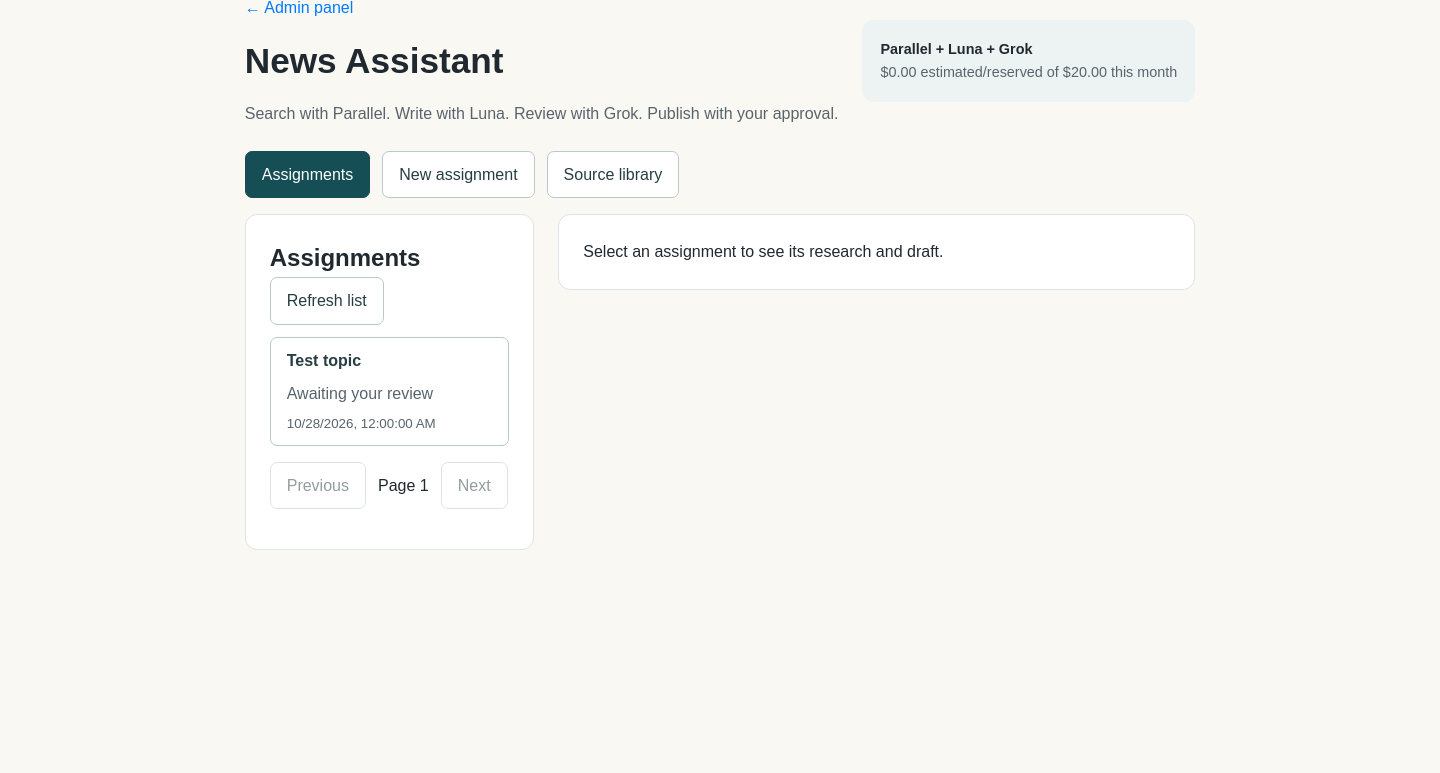
it: publishing stays disabled until an approval note and explicit checkbox are supplied
Click the button "Test topic Awaiting your review 10/28/2026, 12:00:00 AM": {"x": 389, "y": 391} [270,337,509,446]
(page scrolled)
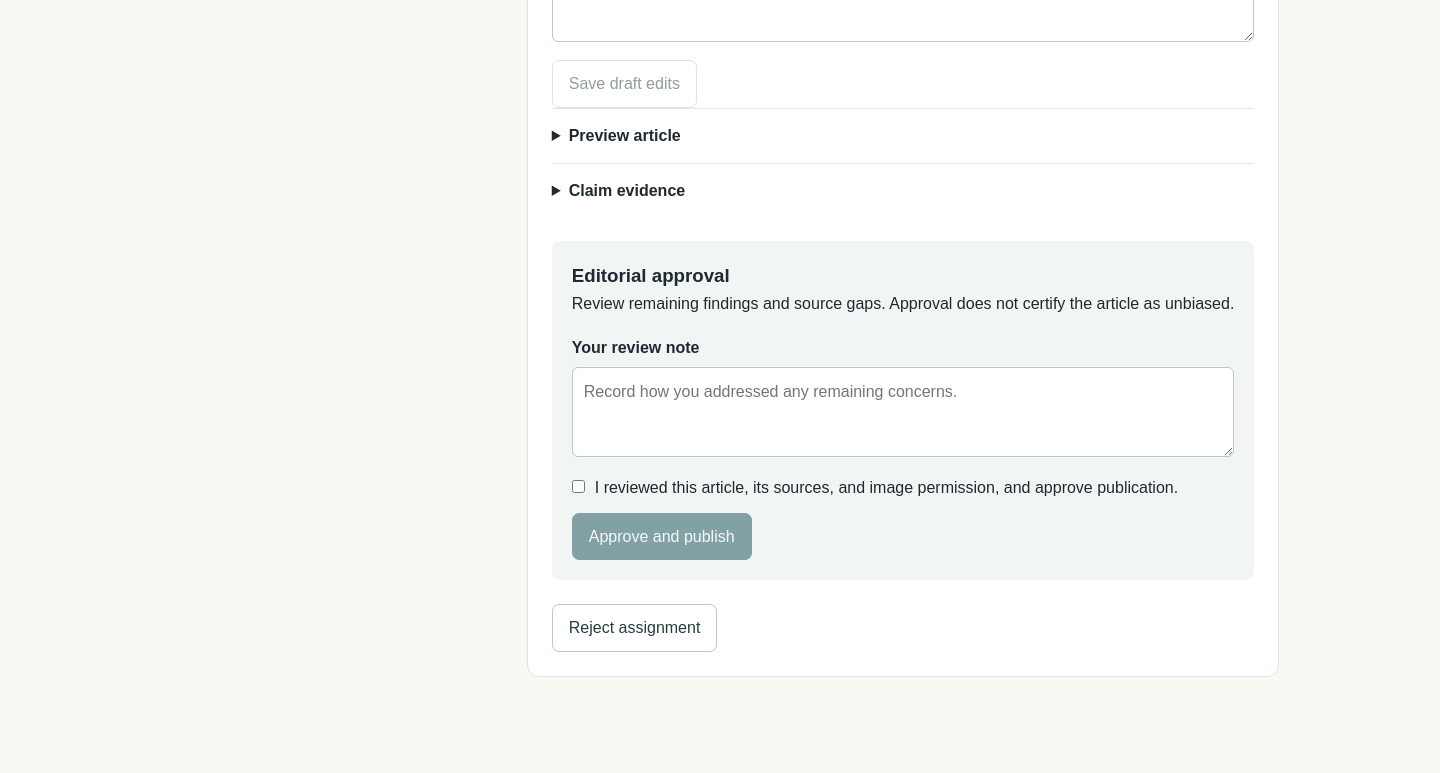
expect the button "Approve and publish" is disabled: met, box [572,513,752,560]
In the text box labelled "Your review note": {"x": 903, "y": 412} [572,367,1234,457], type "Checked the sources and image permission."
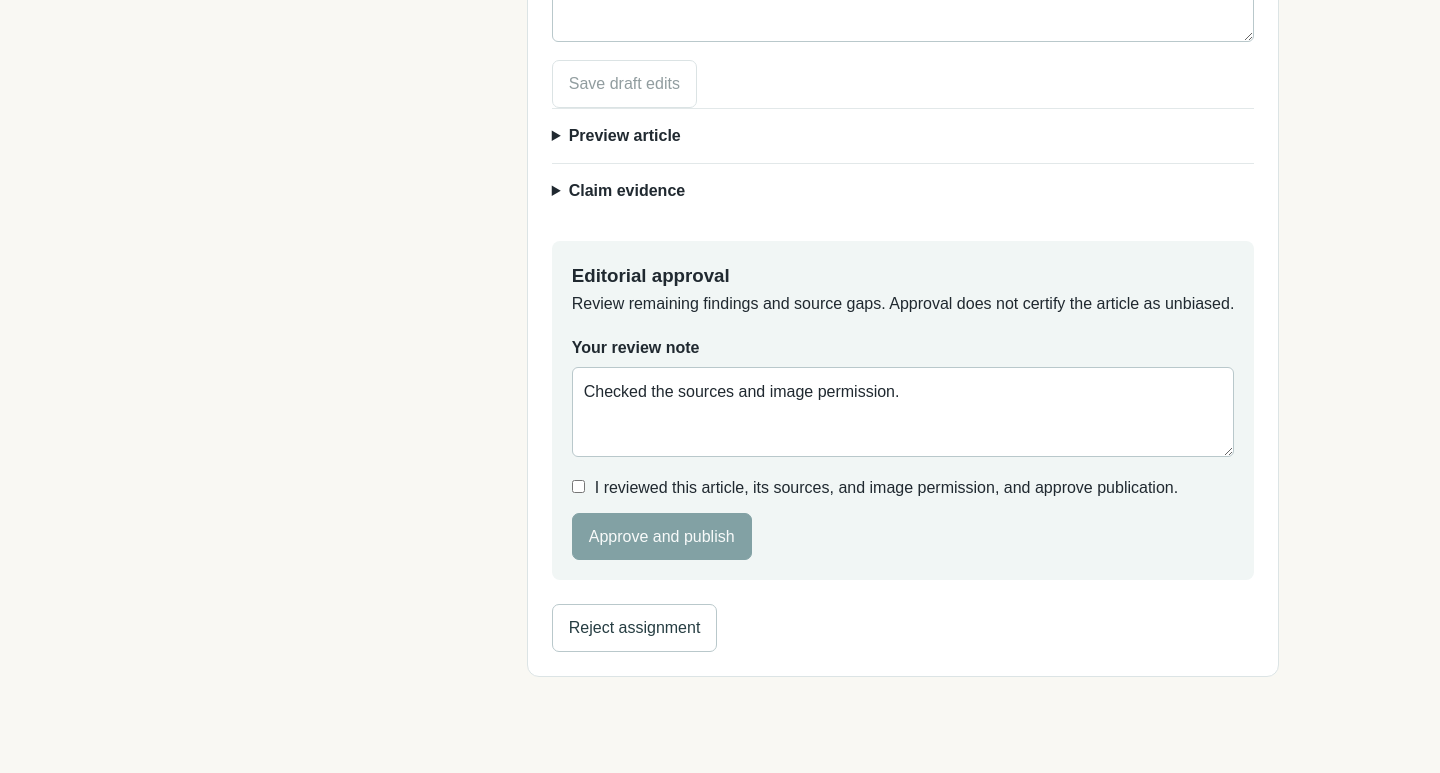
Click the checkbox labelled "I reviewed this article": {"x": 578, "y": 487} [572,480,585,493]
(page scrolled)
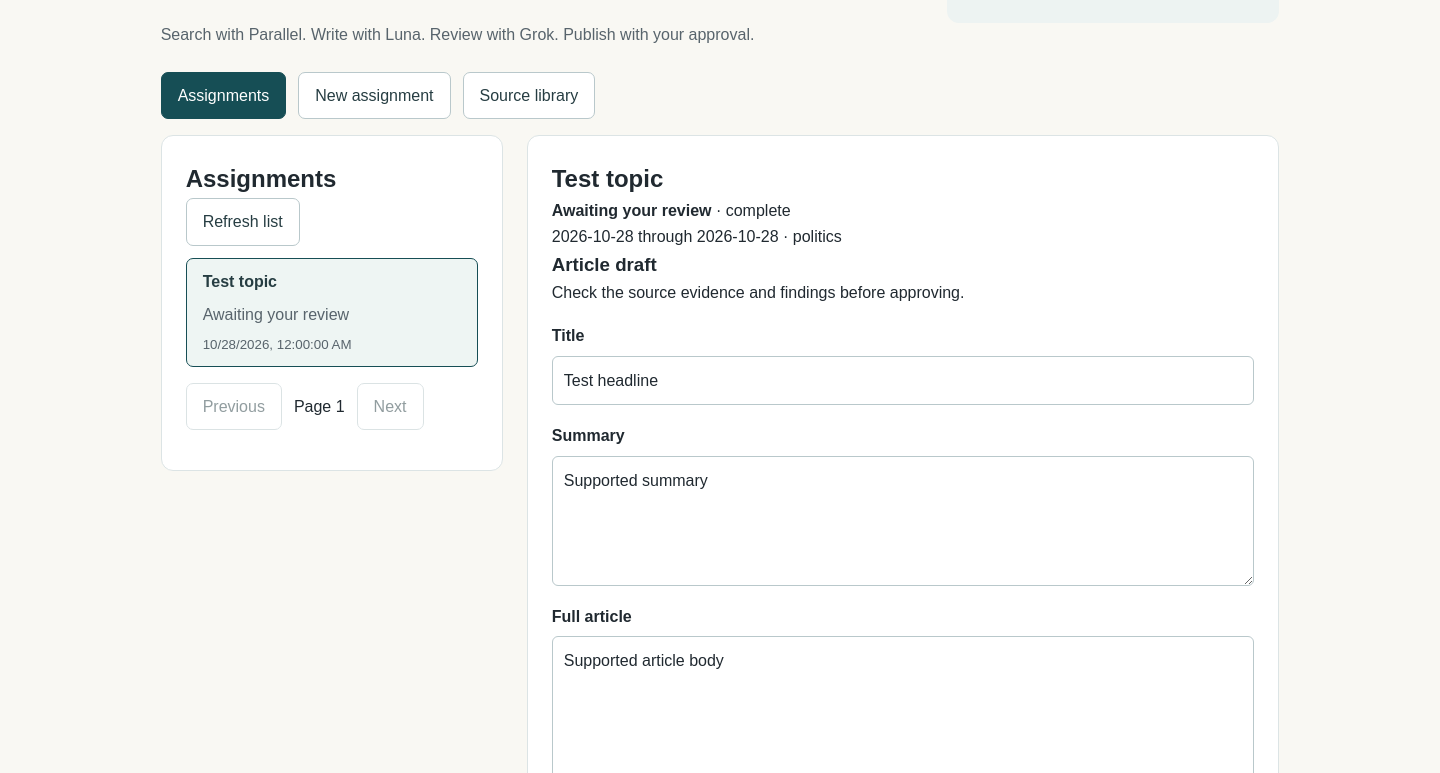
Replace the text in the field labelled "Title" with "Edited headline": {"x": 903, "y": 381} [552,356,1254,405]
(page scrolled)
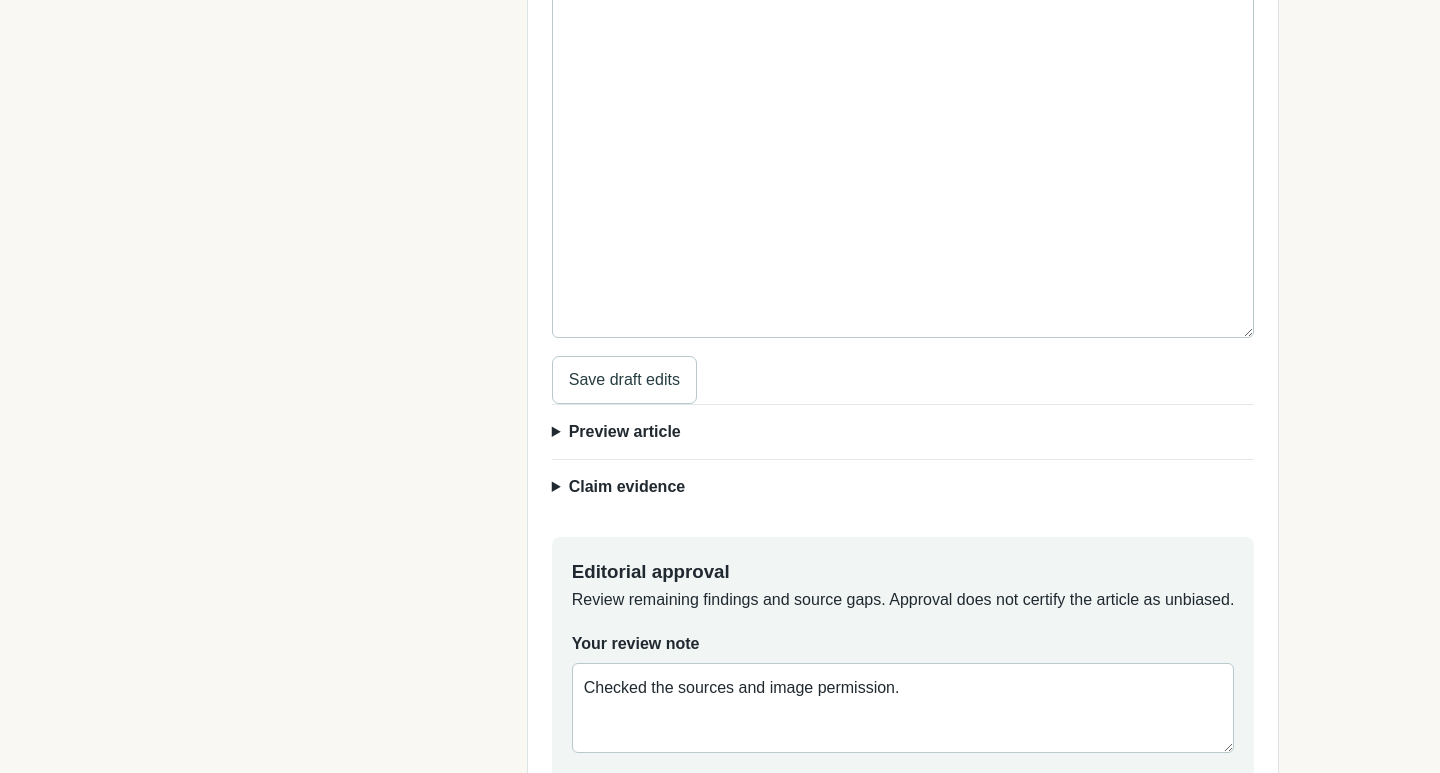
expect the button "Save draft edits" is enabled: met, box [552,356,697,404]
